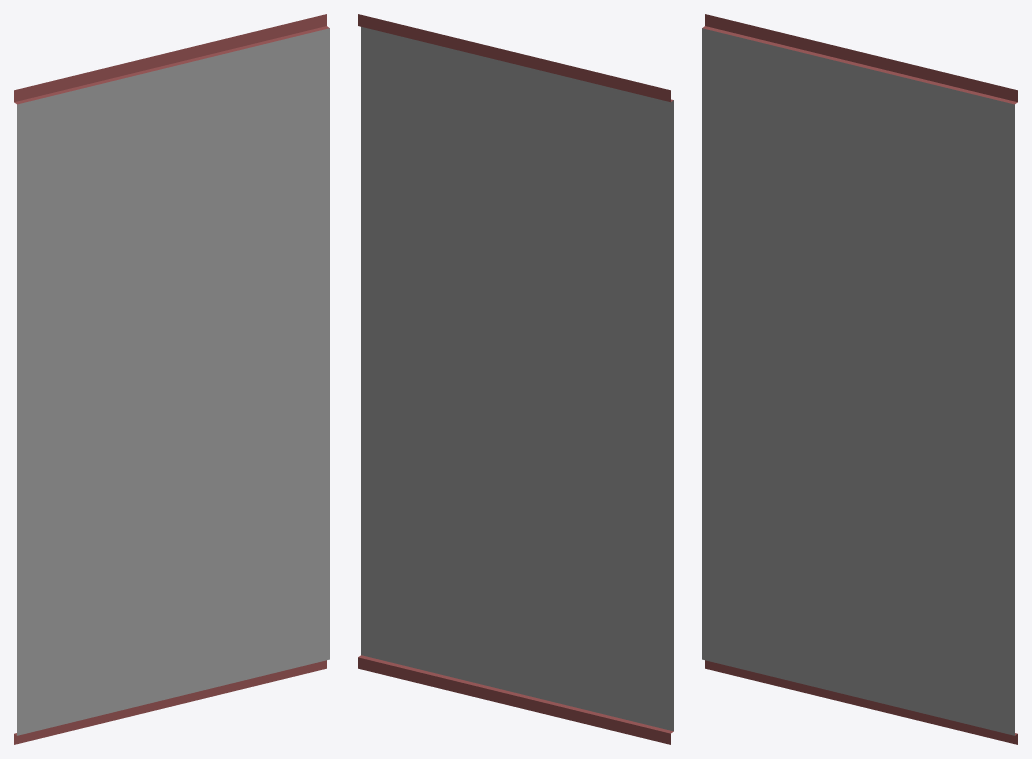
Rendered from Prop_WallInt1.25x2.5_01.fbx.
The picture shows the model from 3 angles, left to right: view 1: azimuth 30°, elevation 25°; view 2: azimuth 150°, elevation 25°; view 3: azimuth 330°, elevation 25°; orthographic projection.
Parts seen in each view (by area): view 1: Prop_WallInt1_25x2_5_01; view 2: Prop_WallInt1_25x2_5_01; view 3: Prop_WallInt1_25x2_5_01.
Boxes of the visible parts, x1,y1,x2,y2 form: Prop_WallInt1_25x2_5_01: (14,14,329,744); Prop_WallInt1_25x2_5_01: (358,14,673,744); Prop_WallInt1_25x2_5_01: (702,14,1017,744).
Size of the model in its own units: 1.5 by 3 by 0.025.
